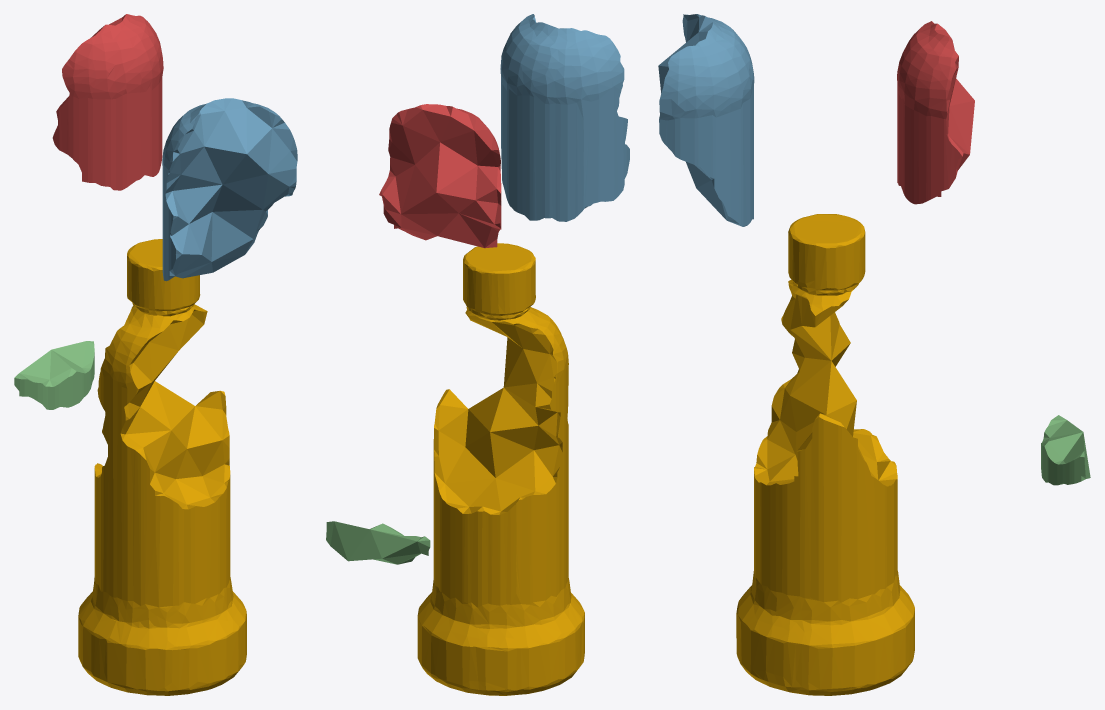
File: mode_6_4pcs_transformed.glb
3 renders of one model, left to right at view 1: azimuth 30°, elevation 25°; view 2: azimuth 150°, elevation 25°; view 3: azimuth 270°, elevation 25°, orthographic. The views are drawn at different scales.
Visible parts, largest first — view 1: piece_0.obj, piece_2.obj, piece_1.obj, piece_3.obj; view 2: piece_0.obj, piece_2.obj, piece_1.obj, piece_3.obj; view 3: piece_0.obj, piece_2.obj, piece_1.obj, piece_3.obj.
Boxes of the visible parts, x1,y1,x2,y2 form: piece_0.obj: (78, 239, 246, 695); piece_2.obj: (162, 98, 297, 281); piece_1.obj: (52, 14, 163, 190); piece_3.obj: (14, 341, 94, 409); piece_0.obj: (417, 243, 584, 695); piece_2.obj: (500, 14, 629, 221); piece_1.obj: (379, 104, 501, 248); piece_3.obj: (326, 521, 430, 564); piece_0.obj: (736, 214, 914, 695); piece_2.obj: (658, 14, 754, 226); piece_1.obj: (897, 21, 974, 204); piece_3.obj: (1041, 415, 1090, 485).
Bounding box in the file's own units: 0.3732 × 1.47 × 0.9035.
